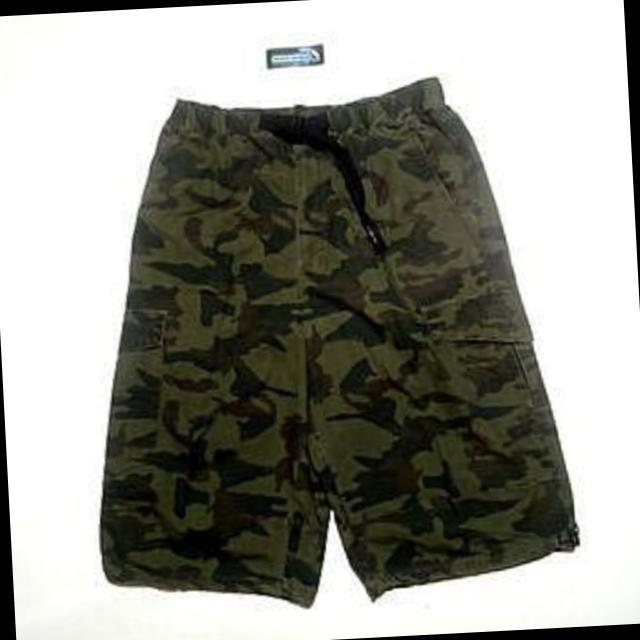SHORT: (65, 56, 632, 625)
